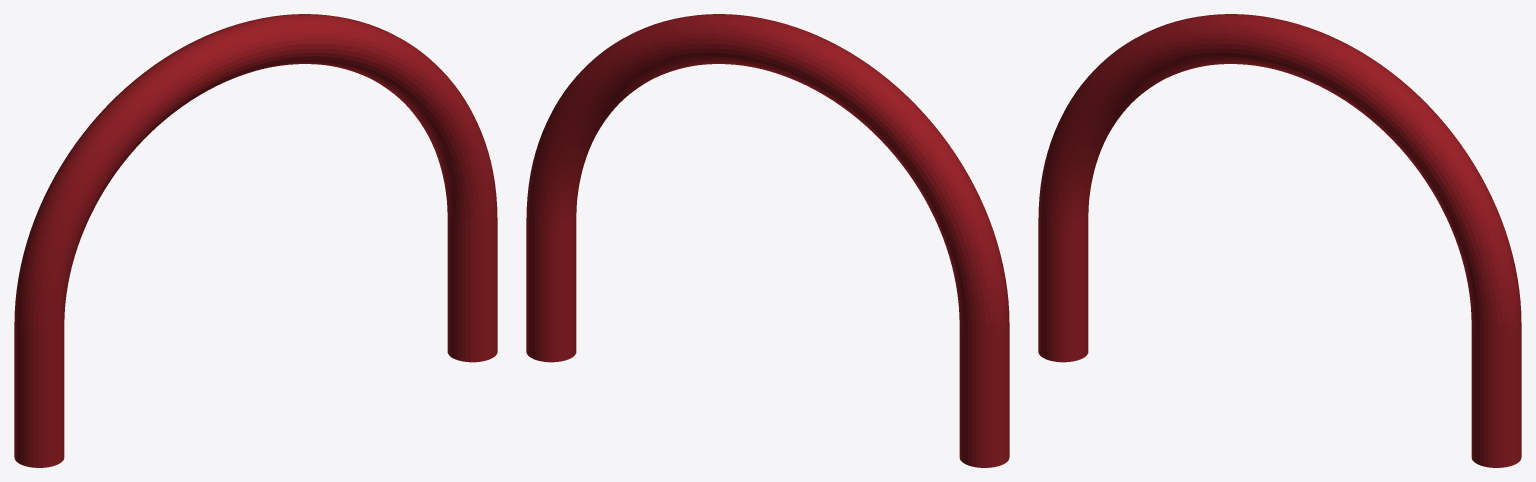
Rendered from player.obj.
3 renders of one model, left to right at view 1: azimuth 30°, elevation 25°; view 2: azimuth 150°, elevation 25°; view 3: azimuth 330°, elevation 25°, orthographic.
Parts seen in each view (by area): view 1: obj_0; view 2: obj_0; view 3: obj_0.
Part boxes in pixels (x1=…): obj_0: x1=14, y1=14, x2=497, y2=467; obj_0: x1=526, y1=14, x2=1009, y2=467; obj_0: x1=1038, y1=14, x2=1521, y2=467.
Size of the model in its own units: 220 by 169 by 20.
